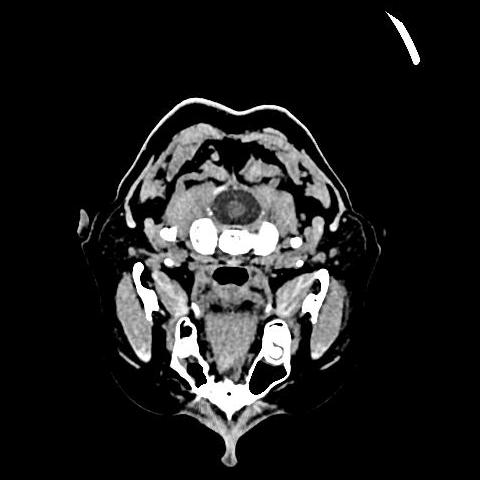Normal_Brain: (82, 92, 366, 467)
